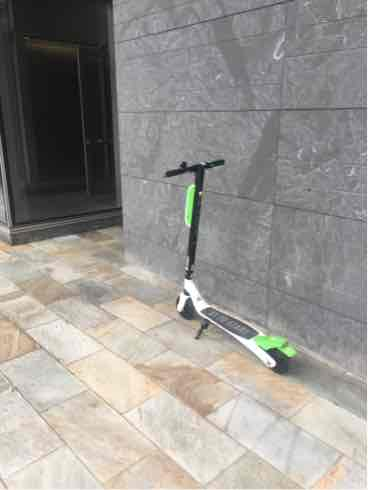scooter: (153, 150, 302, 384)
